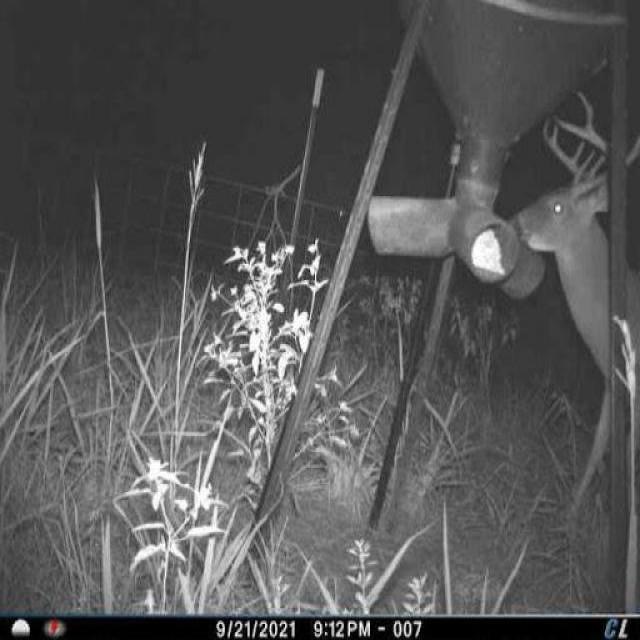deer: (511, 87, 640, 566)
